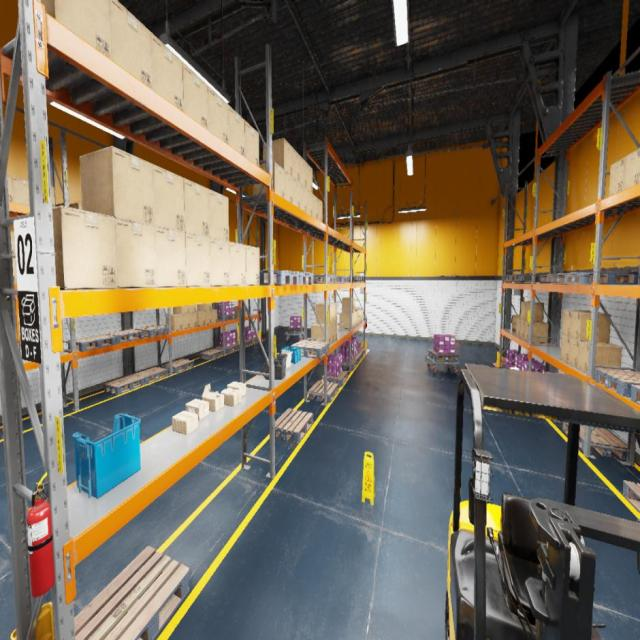box: (29, 206, 117, 289), (80, 146, 154, 226), (41, 0, 112, 59), (110, 0, 152, 89), (115, 218, 156, 288), (151, 32, 184, 112), (153, 164, 185, 232), (154, 227, 186, 287), (182, 63, 208, 130), (183, 178, 209, 237), (578, 341, 622, 375), (185, 233, 210, 286), (570, 312, 611, 342), (208, 86, 228, 144), (263, 138, 293, 176), (253, 162, 284, 198), (208, 189, 229, 241), (210, 238, 230, 286), (228, 104, 245, 157), (562, 310, 591, 337), (229, 241, 246, 286), (245, 120, 260, 167), (623, 148, 640, 189), (609, 157, 625, 196), (172, 410, 198, 434), (202, 384, 224, 412), (245, 245, 260, 285), (12, 176, 30, 206), (524, 322, 548, 344), (185, 399, 209, 419), (521, 302, 544, 321), (220, 388, 242, 407), (311, 323, 330, 344), (316, 303, 334, 323), (570, 338, 580, 368), (165, 314, 182, 331), (227, 382, 246, 397), (322, 302, 336, 322), (284, 170, 292, 203), (561, 335, 570, 364), (293, 147, 300, 183), (292, 177, 300, 208), (6, 175, 14, 202), (300, 155, 306, 188), (342, 298, 356, 312), (340, 313, 352, 328), (307, 163, 313, 193), (300, 184, 306, 212), (306, 189, 312, 216), (511, 315, 520, 332), (312, 194, 318, 219), (196, 310, 205, 326), (12, 258, 17, 284), (347, 312, 355, 328), (203, 310, 212, 324), (235, 306, 246, 317), (318, 198, 323, 222), (174, 306, 189, 314), (355, 309, 363, 323), (189, 312, 196, 328), (182, 313, 189, 329), (11, 232, 15, 256), (211, 309, 217, 324), (197, 304, 211, 310), (68, 203, 82, 209), (330, 323, 334, 343), (51, 187, 55, 207), (520, 320, 524, 339), (516, 319, 520, 337), (334, 322, 337, 341), (189, 305, 196, 313), (18, 336, 21, 354), (354, 311, 356, 326), (16, 261, 17, 284)
forklift: (445, 364, 640, 639)
pallets: (74, 546, 189, 639), (562, 422, 627, 460), (595, 368, 640, 397), (275, 409, 313, 443), (565, 272, 638, 284), (104, 374, 144, 395), (68, 335, 117, 351), (290, 340, 330, 359), (308, 381, 338, 403), (102, 329, 144, 344), (260, 270, 300, 285), (133, 367, 168, 384), (623, 480, 640, 513), (164, 359, 194, 374), (134, 325, 169, 337), (323, 370, 348, 386), (429, 350, 457, 361), (199, 348, 223, 359), (511, 274, 545, 281), (314, 274, 336, 284), (216, 344, 238, 354), (342, 358, 357, 371), (630, 385, 640, 404), (299, 272, 313, 284), (551, 273, 566, 284), (217, 314, 237, 321), (235, 341, 249, 349), (245, 337, 258, 345), (540, 274, 550, 284), (342, 276, 362, 281), (354, 352, 362, 363), (288, 327, 302, 333), (357, 348, 365, 358), (503, 274, 511, 282), (502, 362, 510, 368), (342, 276, 348, 282), (337, 276, 342, 283), (553, 420, 561, 424), (361, 276, 365, 282)
